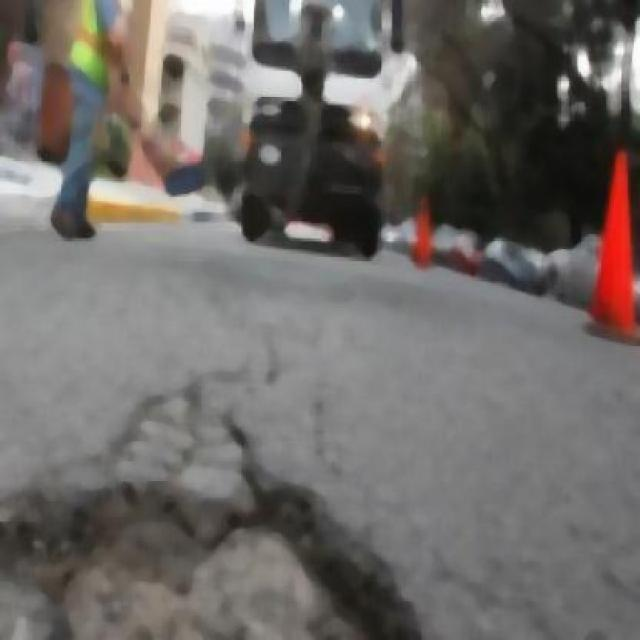Buraco: (0, 456, 434, 639)
